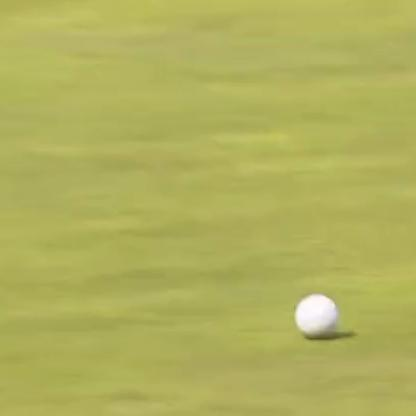golfball: (292, 291, 337, 339)
